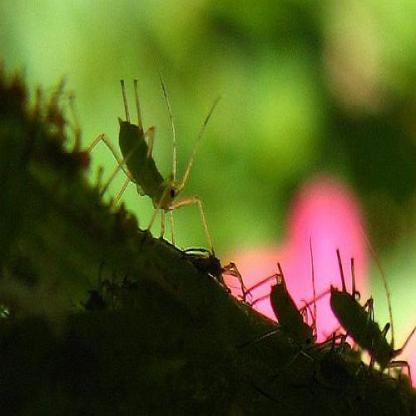aphid: (79, 68, 216, 244), (326, 257, 416, 396), (259, 260, 326, 358), (167, 223, 251, 300)
